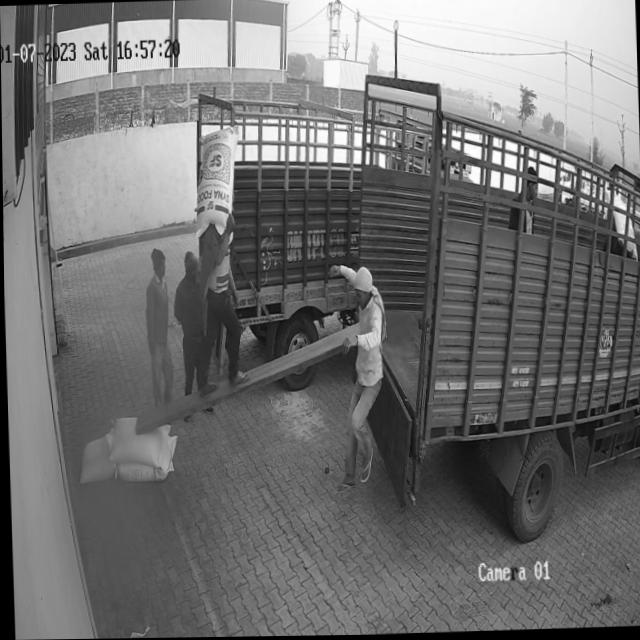sack: (192, 128, 239, 237), (106, 414, 168, 471), (112, 435, 177, 482), (76, 432, 114, 484)
